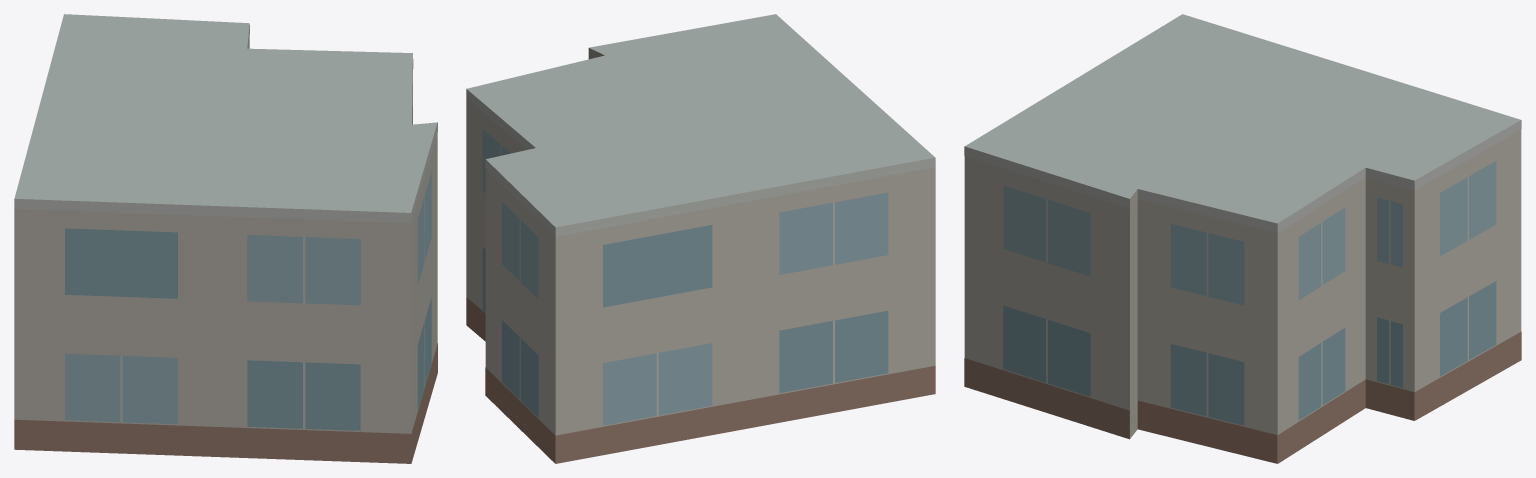
File: survey-upis-32494174.glb
The picture shows the model from 3 angles, left to right: view 1: azimuth 30°, elevation 25°; view 2: azimuth 150°, elevation 25°; view 3: azimuth 270°, elevation 25°; orthographic projection. The views are drawn at different scales.
Parts seen in each view (by area): view 1: survey-upis-32494174.tmp; view 2: survey-upis-32494174.tmp; view 3: survey-upis-32494174.tmp.
Part boxes in pixels (<box>): survey-upis-32494174.tmp: <box>14,14,437,463</box>; survey-upis-32494174.tmp: <box>466,14,935,463</box>; survey-upis-32494174.tmp: <box>964,14,1521,463</box>.
Size of the model in its own units: 11.42 by 6.1 by 12.82.
